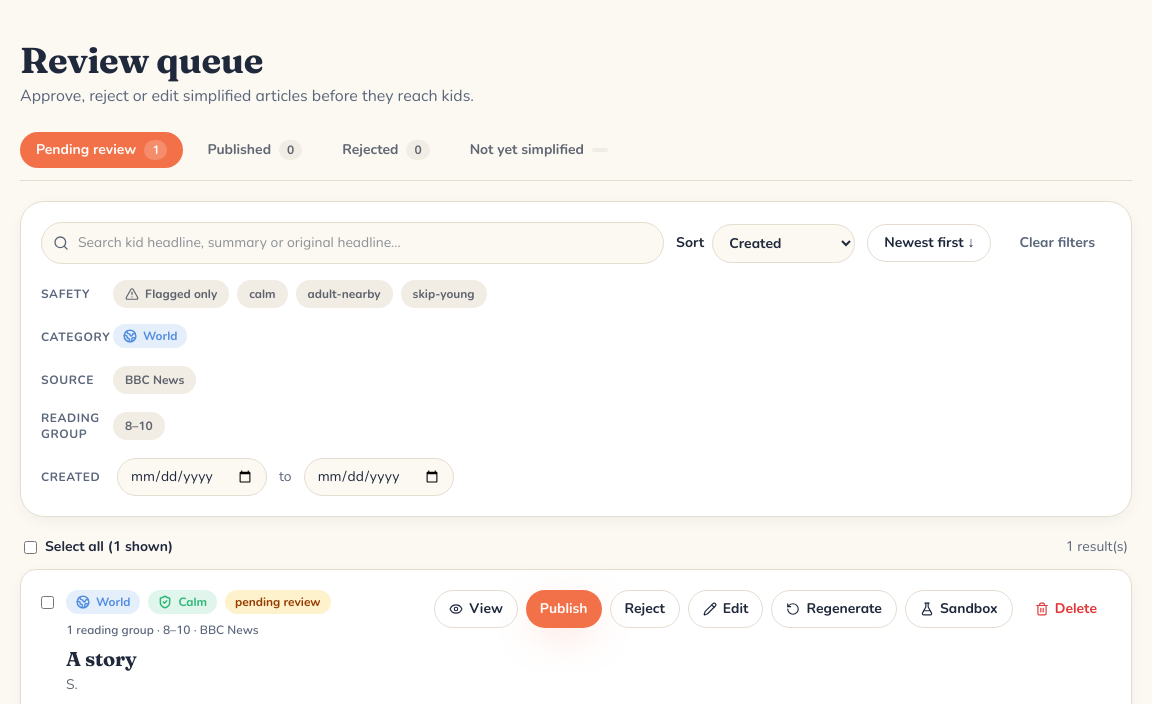
review queue, server unreachable › Delete reports the failure
Expected: the button "A story" is shown, [66,646,136,671]
Click the button "Delete".
click(1066, 609)  # box [1021,590,1111,628]
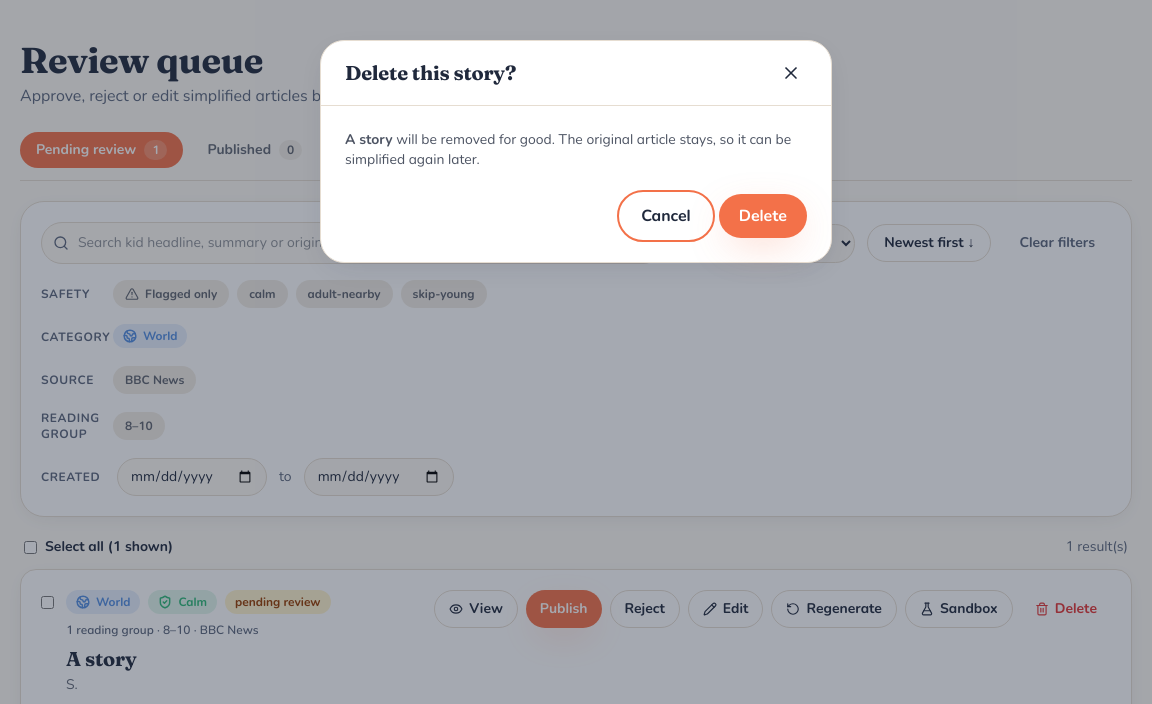
Click the button "Delete".
click(763, 216)  # box [719,194,807,238]
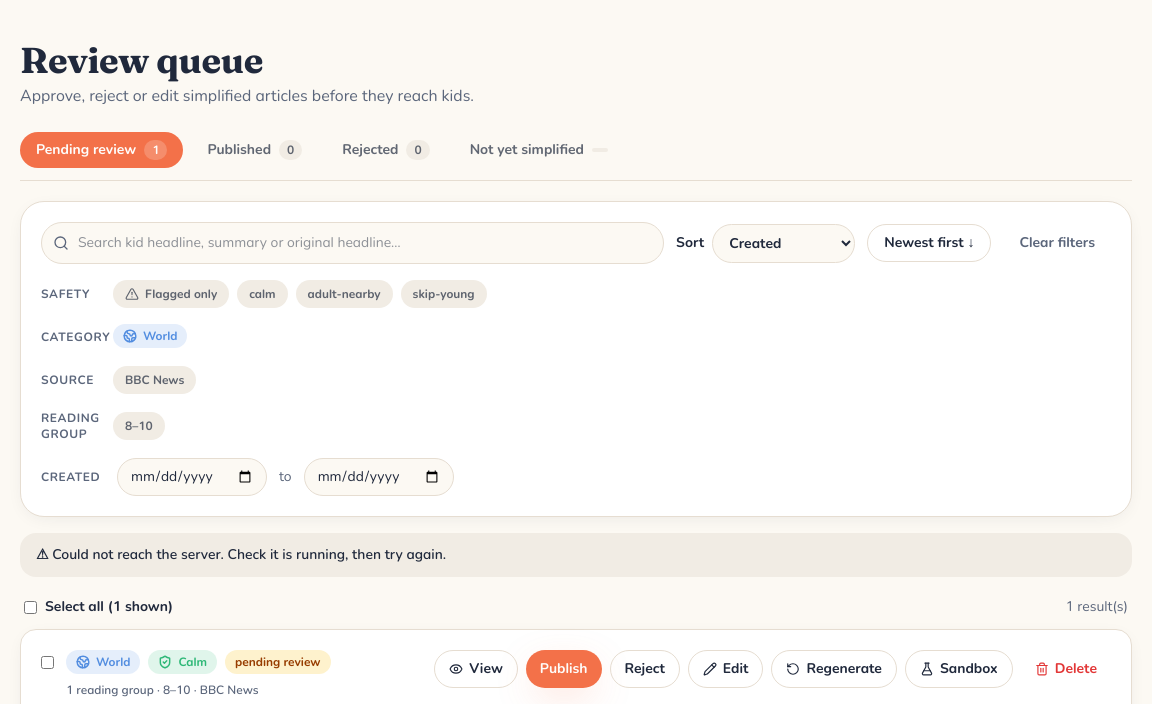
Now the text "⚠ Could not reach the server. Check it is running, then try again." is shown, box [20,533,1132,577]
